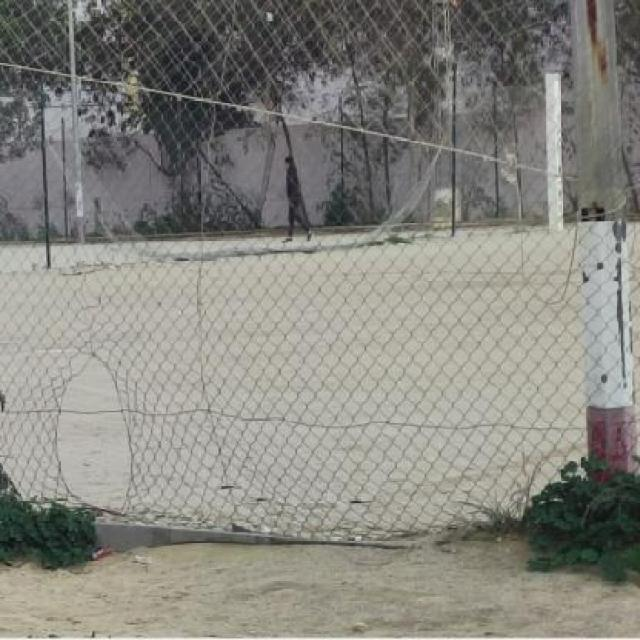fence line: (50, 362, 148, 509)
